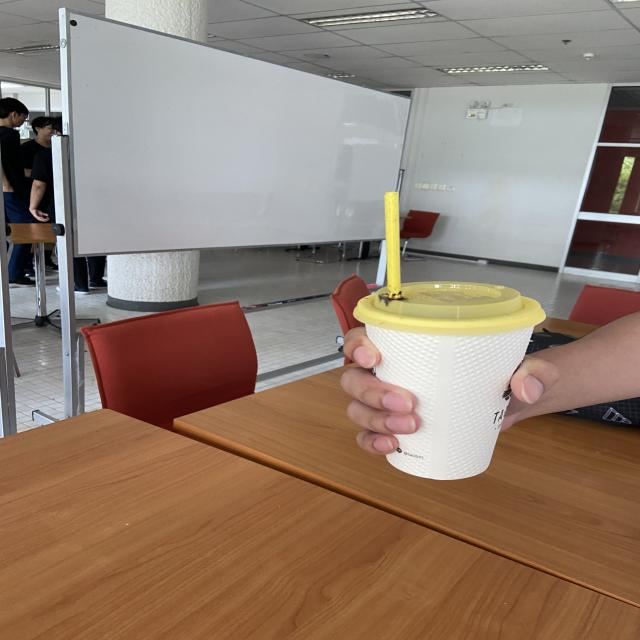cup: (350, 277, 553, 483)
